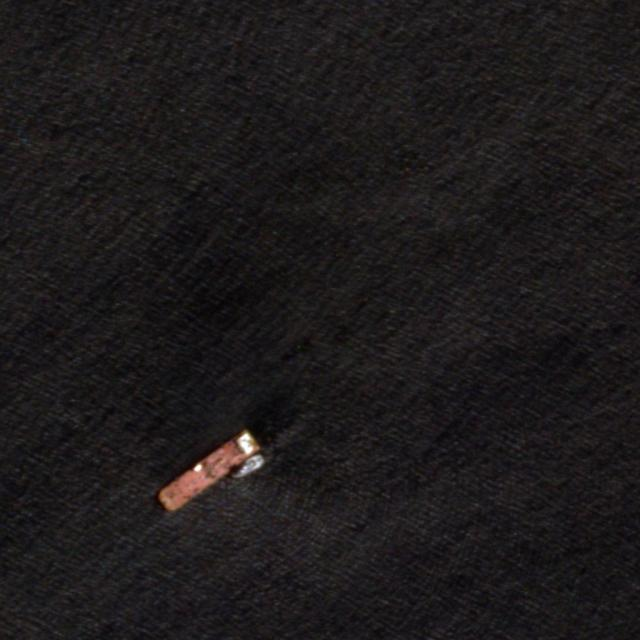boats: (157, 428, 269, 515)
